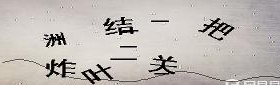chinese: (201, 16, 234, 47), (44, 57, 77, 81), (102, 17, 138, 37), (80, 66, 111, 85), (148, 55, 177, 74), (43, 28, 65, 52)
